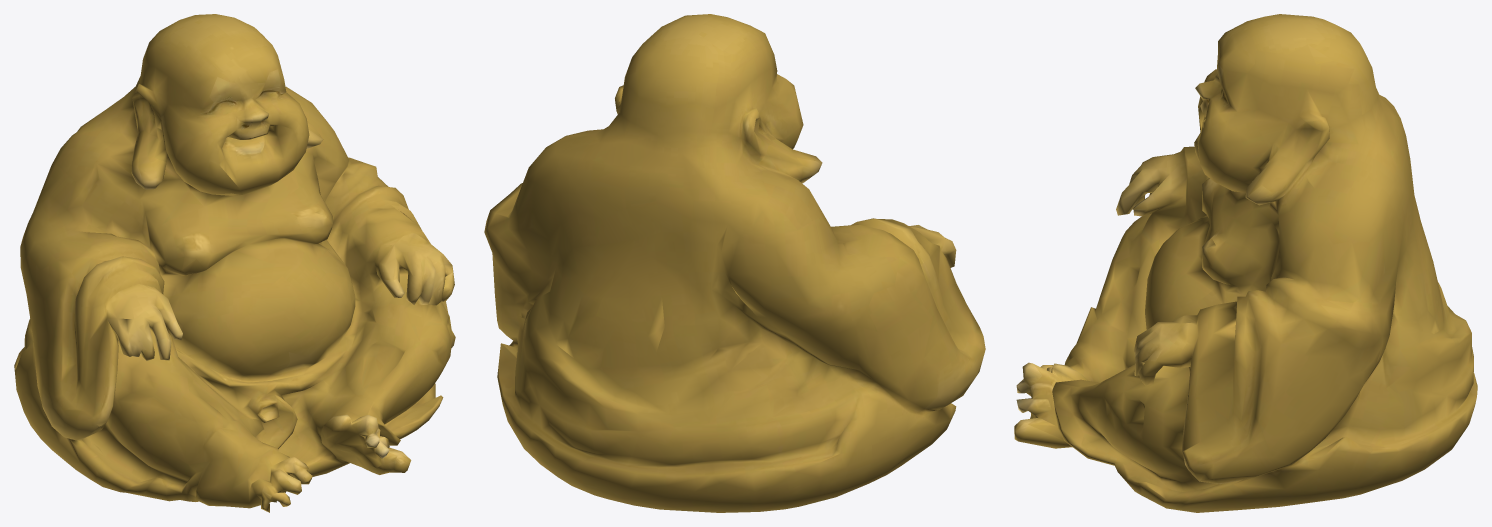
File: mile.glb
3 renders of one model, left to right at view 1: azimuth 30°, elevation 25°; view 2: azimuth 150°, elevation 25°; view 3: azimuth 270°, elevation 25°, orthographic. The views are drawn at different scales.
Parts seen in each view (by area): view 1: tripo_node_17326591-ef1f-4542-87da-dd559080f1e3; view 2: tripo_node_17326591-ef1f-4542-87da-dd559080f1e3; view 3: tripo_node_17326591-ef1f-4542-87da-dd559080f1e3.
Part boxes in pixels (x1,y1,x2,y2): tripo_node_17326591-ef1f-4542-87da-dd559080f1e3: (14, 14, 455, 512); tripo_node_17326591-ef1f-4542-87da-dd559080f1e3: (484, 14, 985, 512); tripo_node_17326591-ef1f-4542-87da-dd559080f1e3: (1014, 14, 1477, 512).
Size of the model in its own units: 1 by 0.9679 by 0.9584.
1 material, 1 textured.
